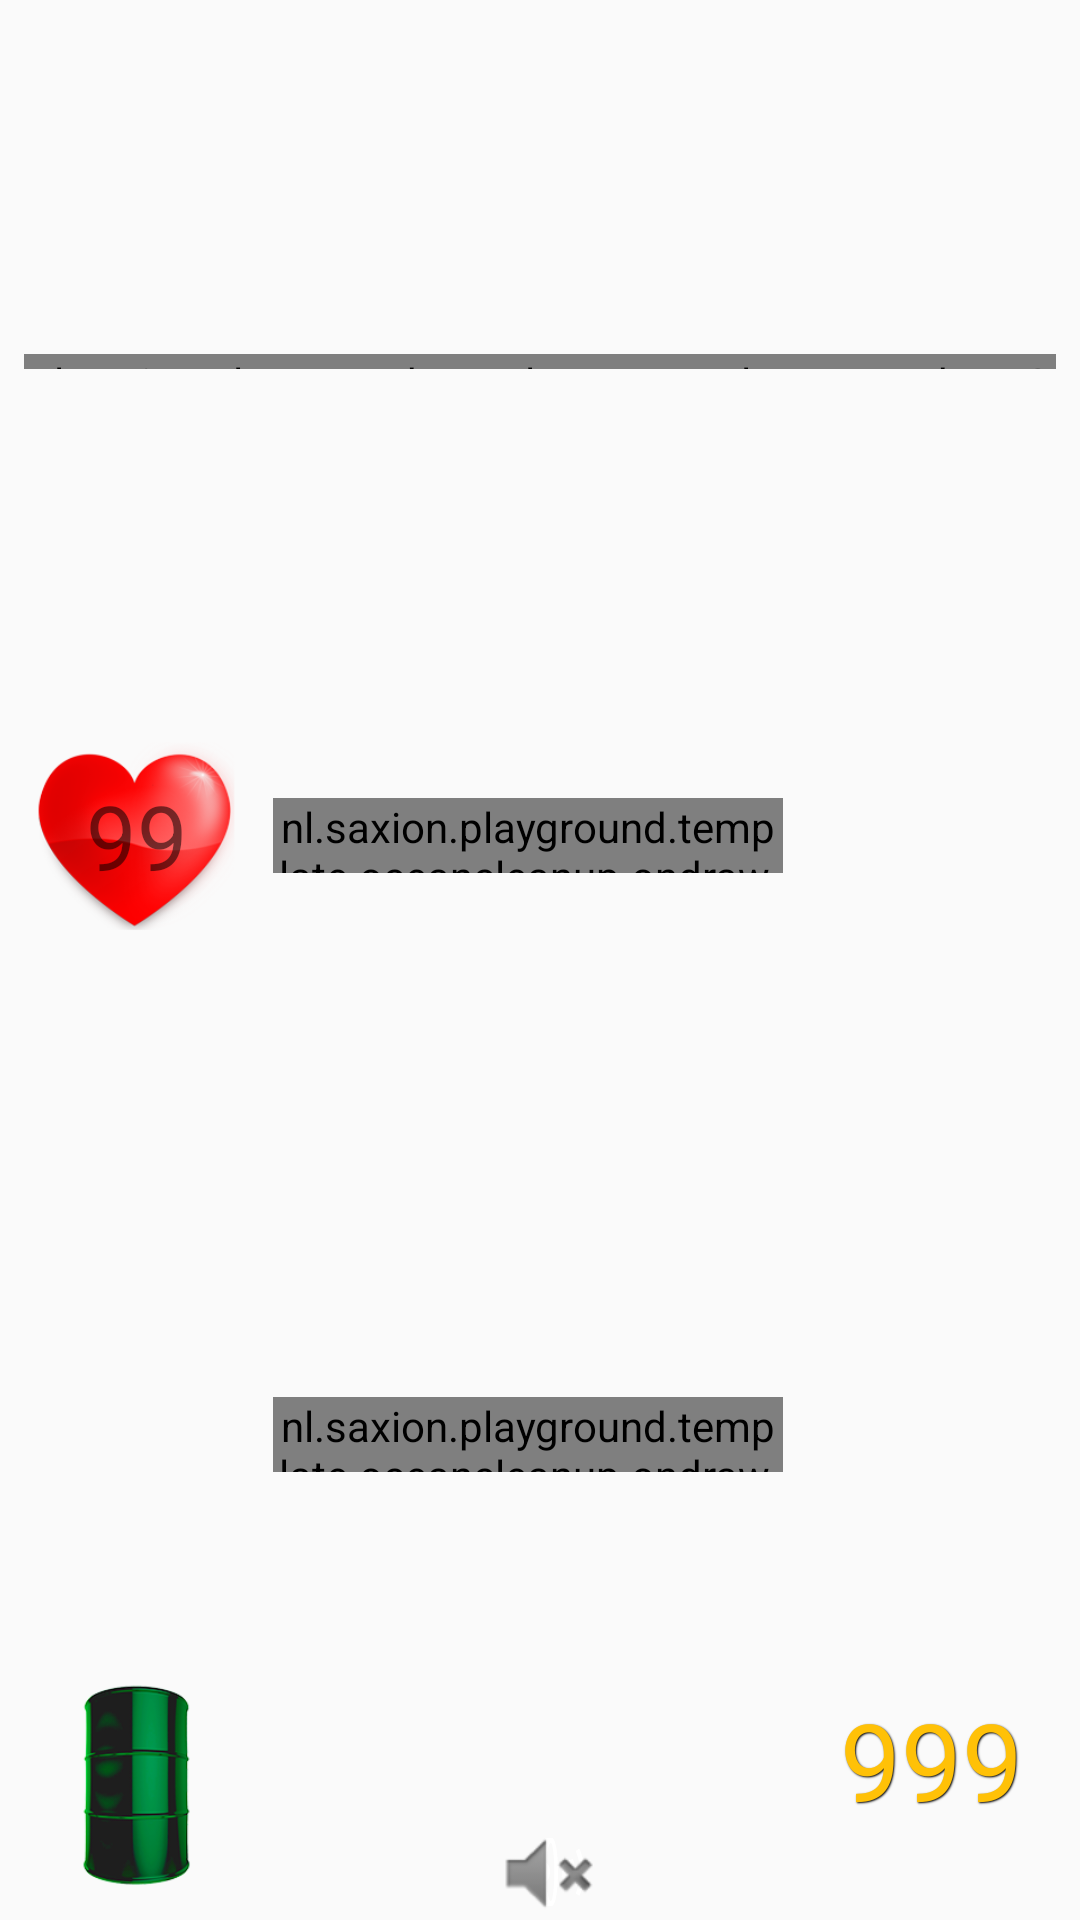

Point at icon controls on the screen. Image size 1080w x 1920h, points as point (x, y).
oil barrel: point (136, 1785)
